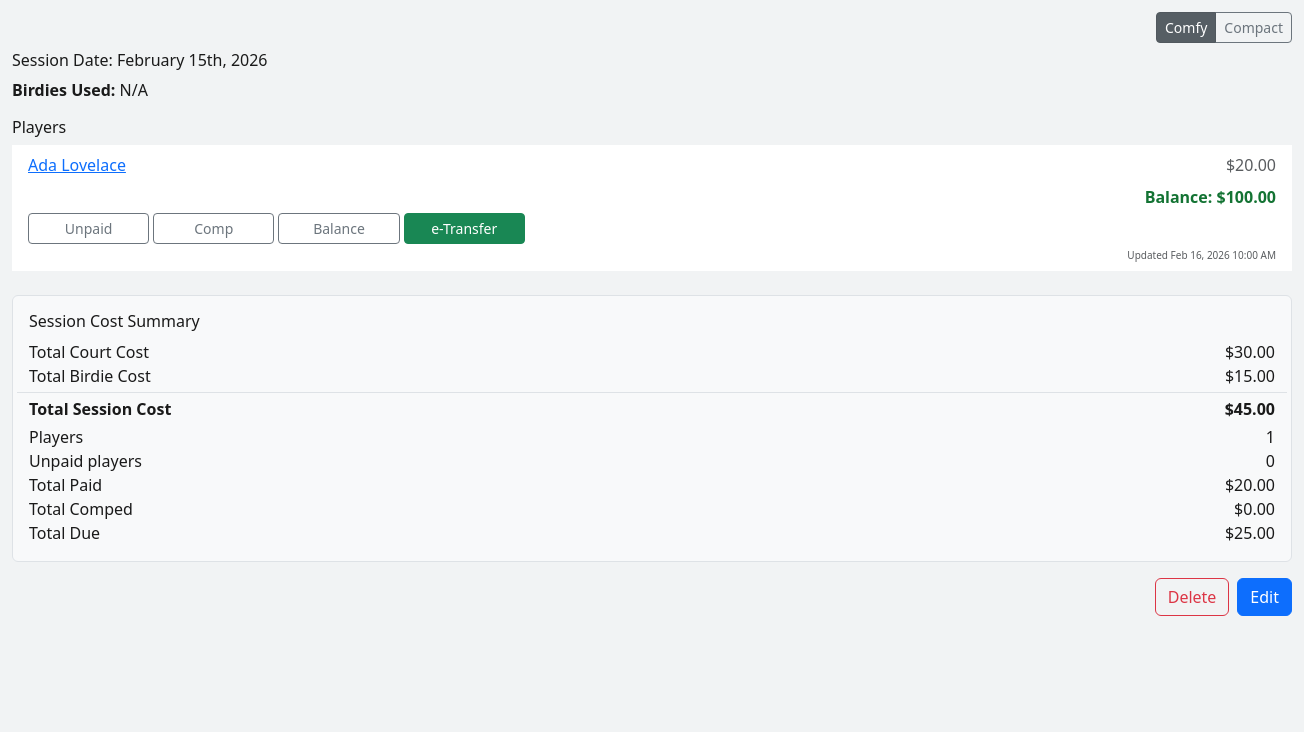
ExistingSessionView › defaults to Comfy, and switching to Compact keeps the balance callout but hides the "Updated" timestamp and tightens row spacing
Check: the text "Balance: $100.00" is shown, box [1145,185,1276,209]
Check: the text "Updated Feb 16, 2026 10:00 AM" is shown, box [1127,248,1276,263]
Click the button "Compact" at (1254, 28), box [1215,12,1292,43]
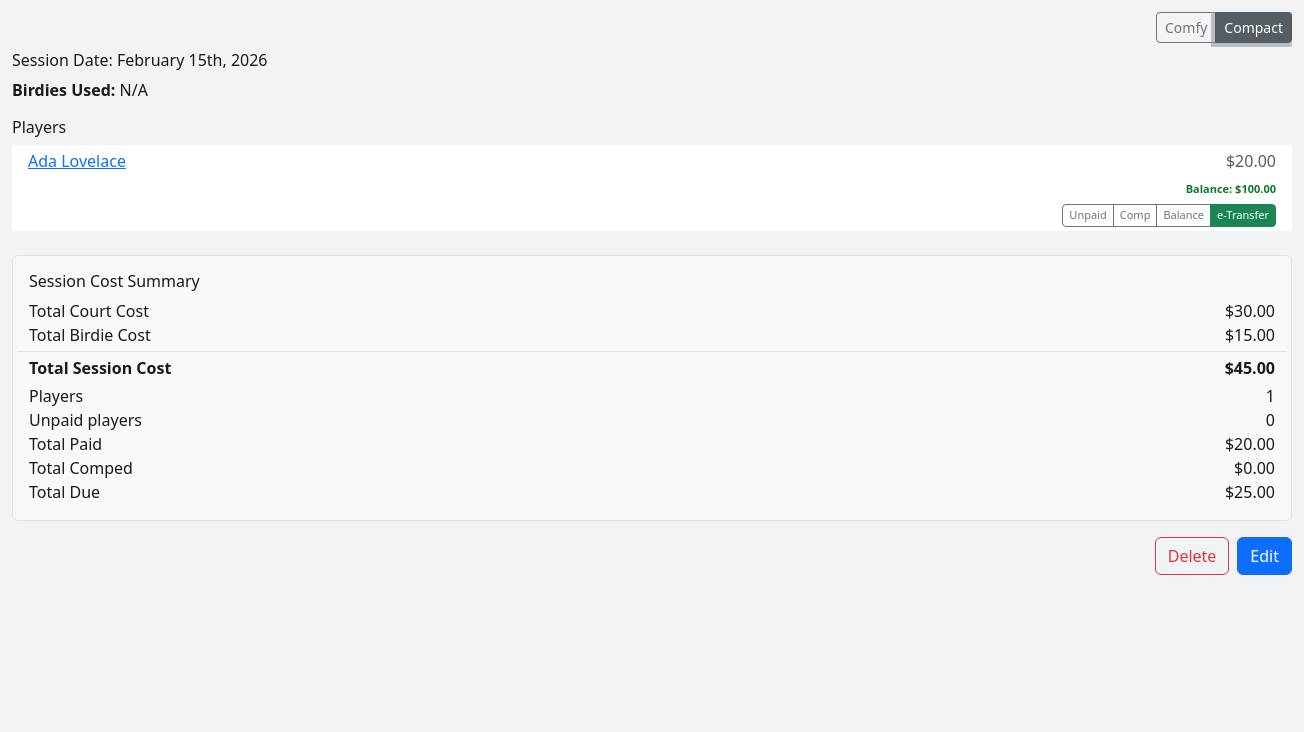
Check: the text "Balance: $100.00" is shown, box [1186,181,1276,198]
Check: the text "Updated " is gone
